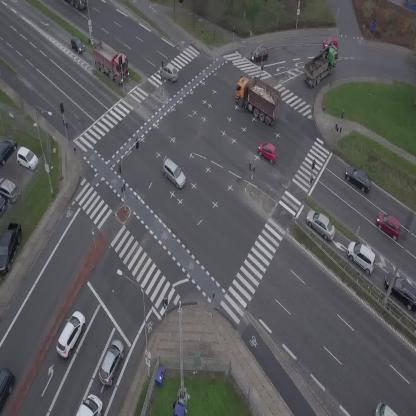car: (51, 308, 90, 359), (95, 337, 129, 388), (341, 237, 383, 276), (301, 205, 341, 244), (157, 157, 191, 190), (341, 163, 376, 194), (371, 210, 406, 241), (254, 139, 282, 165), (157, 60, 182, 83), (0, 368, 14, 408), (66, 34, 87, 56), (375, 403, 398, 416), (250, 46, 269, 61), (322, 37, 338, 47)
lorry: (226, 70, 289, 127), (83, 36, 138, 87), (297, 43, 347, 89), (76, 394, 102, 416)
